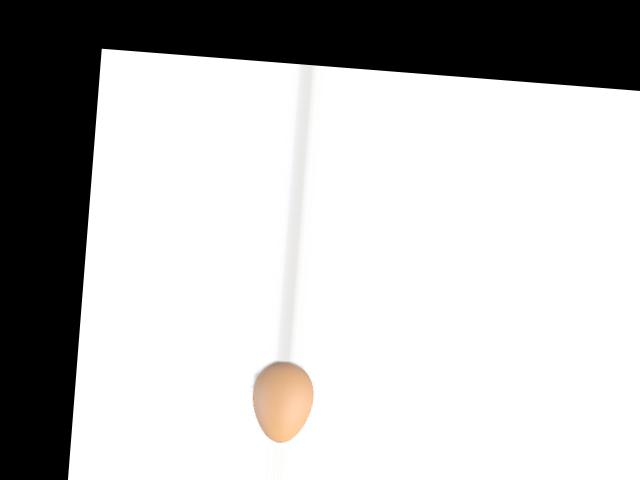egg: (249, 359, 315, 443)
